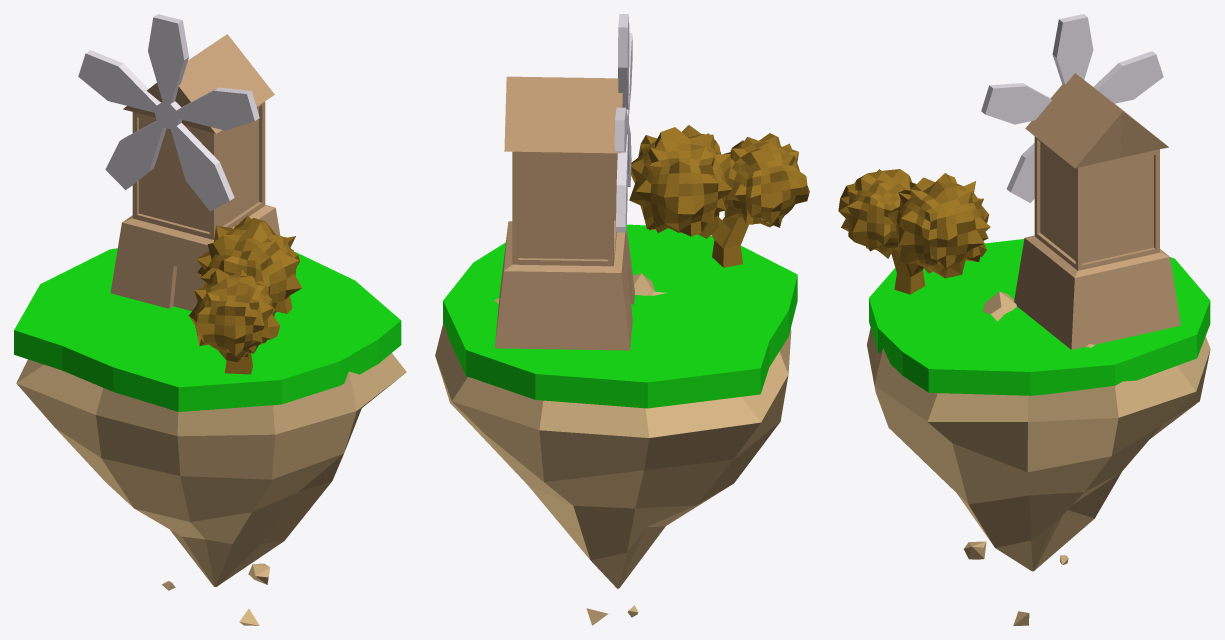
Rendered from low-poly-mill.glb.
3 views of the same model, side by side, from view 1: azimuth 30°, elevation 25°; view 2: azimuth 150°, elevation 25°; view 3: azimuth 270°, elevation 25° (orthographic). The views are drawn at different scales.
Parts seen in each view (by area): view 1: Island, Green_platform, Mill, propeller, Tree; view 2: Island, Green_platform, Mill, Tree, propeller; view 3: Island, Mill, Green_platform, Tree, propeller.
Part boxes in pixels (x1,y1,x2,y2): Island: (16,353,406,625); Green_platform: (14,248,401,411); Mill: (110,34,280,310); propeller: (78,14,259,211); Tree: (189,215,301,374); Island: (435,273,791,625); Green_platform: (443,224,797,408); Mill: (495,76,634,350); Tree: (629,125,809,267); propeller: (614,14,632,232); Island: (867,291,1210,625); Mill: (1014,73,1180,349); Green_platform: (869,239,1210,395); Tree: (838,169,990,294); propeller: (981,14,1163,202).
Bounding box in the file's own units: 105 × 195 × 113.
